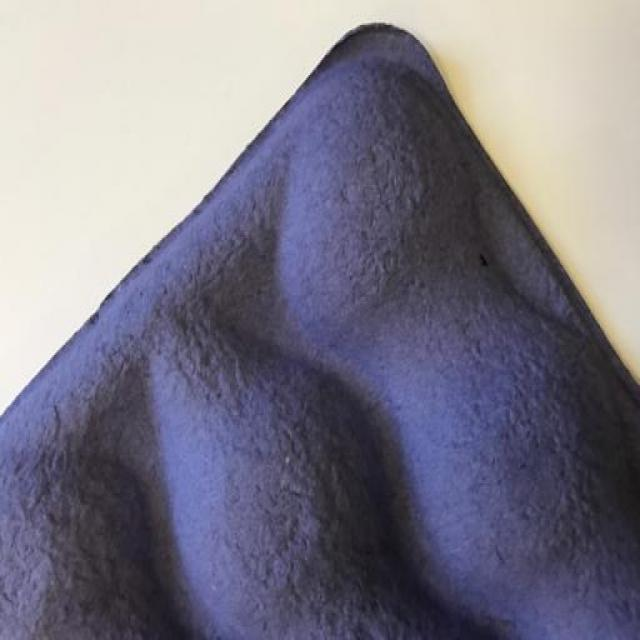others: (4, 2, 638, 638)
